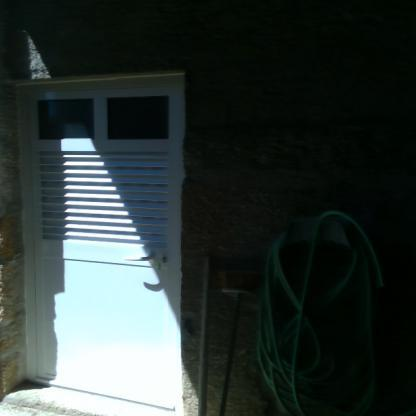door: (31, 92, 176, 410)
lever: (124, 252, 160, 266)
